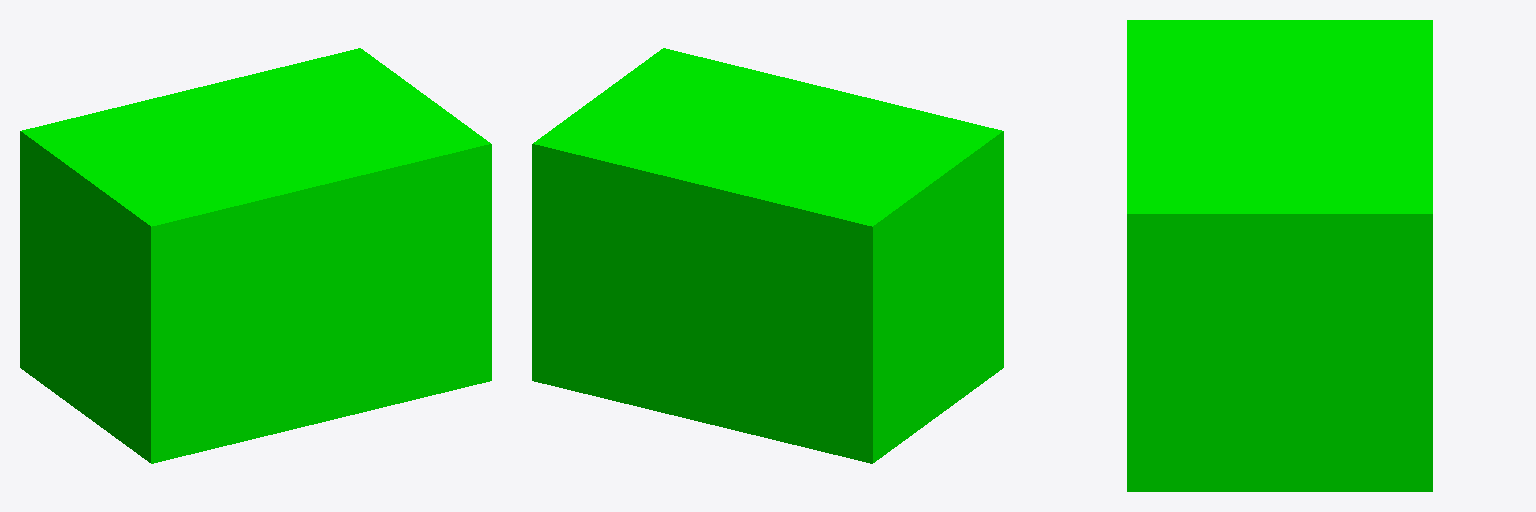
The robot description file, URDF, robot "target":
<robot name="target">
  <link name="base_link">
    <visual>
      <geometry>
        <box size="3 2 2"/> <!-- Width, Height, Depth -->
      </geometry>
      <material name="blue">
        <color rgba="0 1 0 1"/> <!-- Red, Green, Blue, Alpha -->
      </material>
    </visual>
    <collision>
      <geometry>
        <box size="3 2 2"/>
      </geometry>
    </collision>
    <inertial>
      <mass value="1.0"/> <!-- Mass in kilograms -->
      <inertia ixx="0.1" ixy="0.0" ixz="0.0" iyy="0.1" iyz="0.0" izz="0.1"/>
    </inertial>
  </link>
</robot>

--- What the picture shows (computed from the rendered views, not written in the file) ---
Views: 3 orthographic renders of the robot side by side, from view 1: azimuth 30°, elevation 25°; view 2: azimuth 150°, elevation 25°; view 3: azimuth 270°, elevation 25°.
Model target with 1 links and 0 joints (none), rooted at base_link, posed all joints at 0.
Links seen in each view (by area): view 1: base_link; view 2: base_link; view 3: base_link.
Boxes of the visible links, x1,y1,x2,y2 form: base_link: [20, 48, 491, 463]; base_link: [532, 48, 1003, 463]; base_link: [1127, 20, 1432, 491].
Size in the robot's own frame: 3 by 2 by 2 metres.
Geometry: primitives only (box / cylinder / sphere), no mesh files.